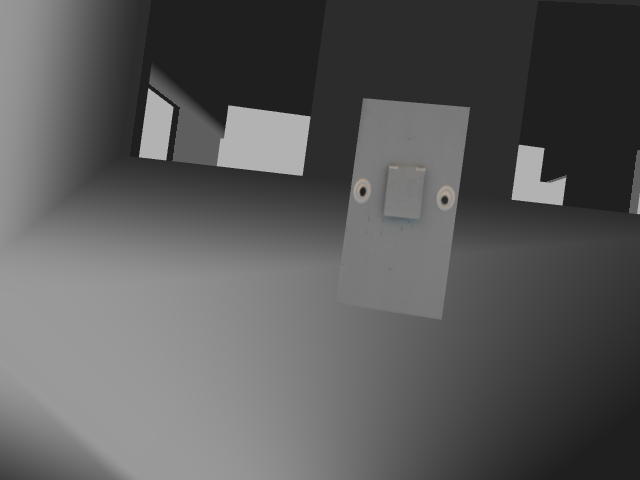facade: (349, 160, 456, 224)
